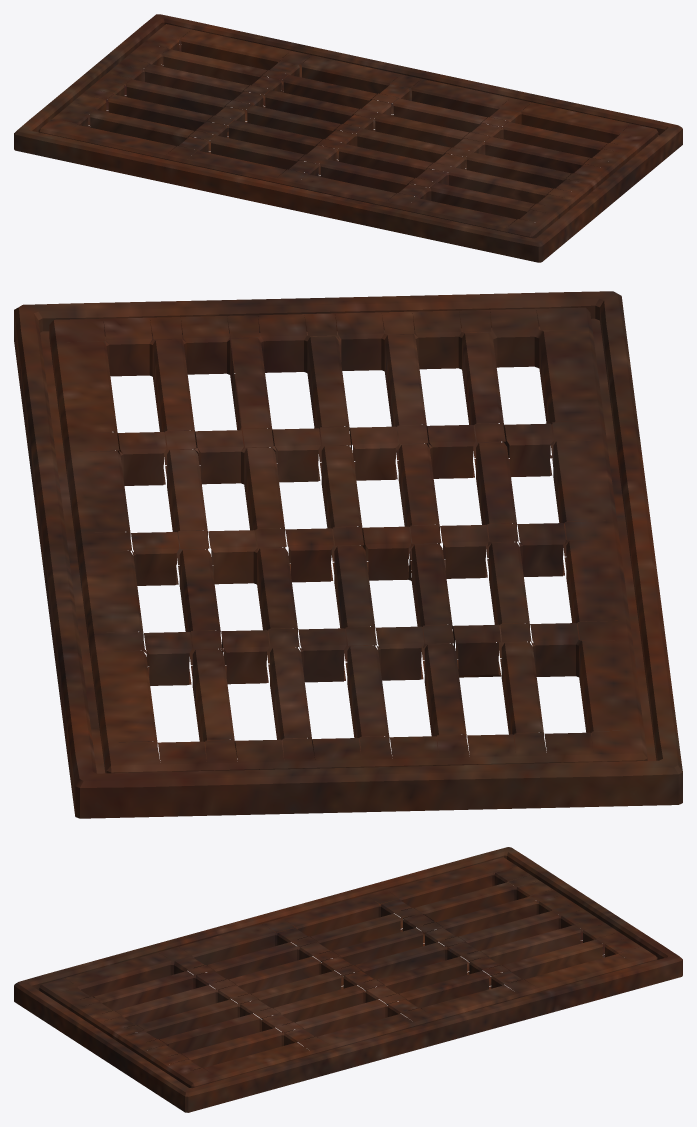
File: tj_storm_drain.fbx
3 views of the same model, one above another, from view 1: azimuth 30°, elevation 25°; view 2: azimuth 150°, elevation 25°; view 3: azimuth 270°, elevation 25° (orthographic). The views are drawn at different scales.
Parts seen in each view (by area): view 1: tj_storm_drain_LOD0; view 2: tj_storm_drain_LOD0; view 3: tj_storm_drain_LOD0.
Boxes of the visible parts, box(x1,y1,x2,y2) form: tj_storm_drain_LOD0: box(14, 14, 682, 262); tj_storm_drain_LOD0: box(14, 291, 682, 818); tj_storm_drain_LOD0: box(14, 847, 682, 1112).
Size of what is drawn, in the model's own units: 1.17 by 0.0409 by 1.33.
Materials: 1 (1 with a texture image).
